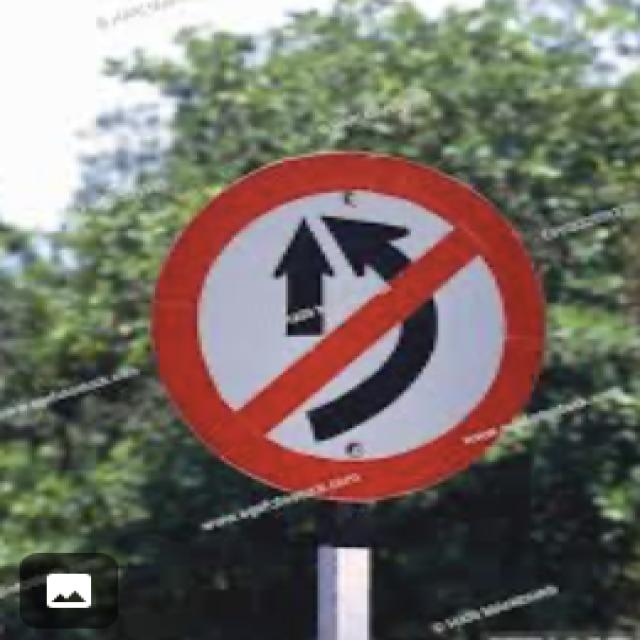overtaking prohibited: (149, 148, 550, 506)
